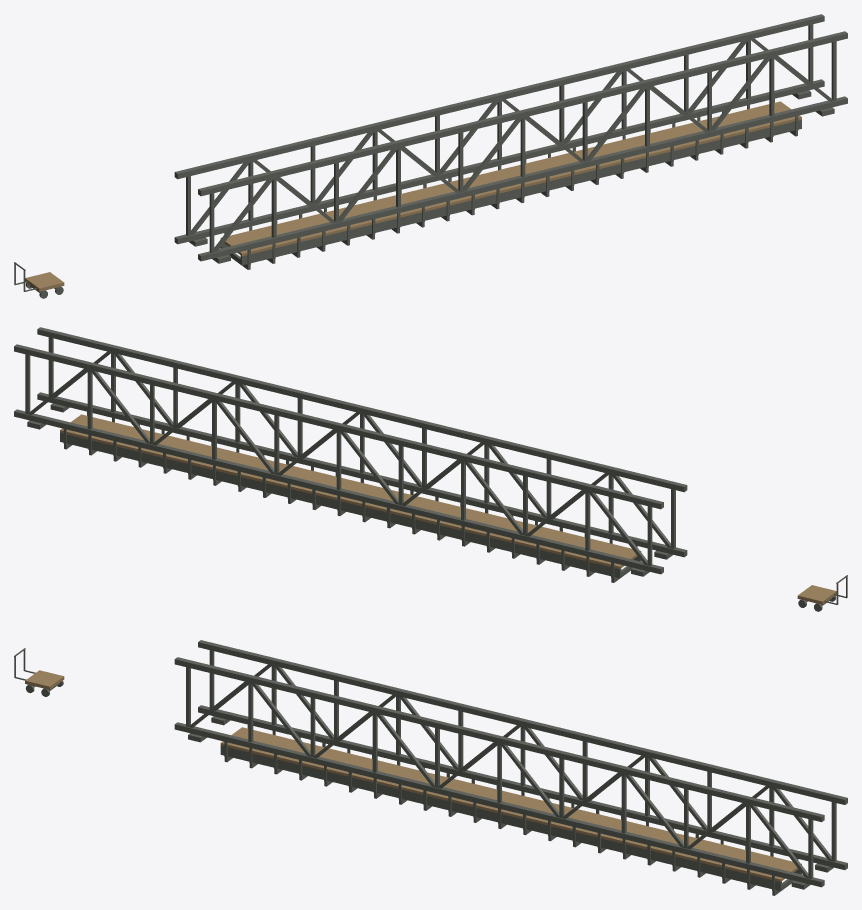
The model's file is second-floor-bridge.glb.
3 renders of one model, top to bottom at view 1: azimuth 30°, elevation 25°; view 2: azimuth 150°, elevation 25°; view 3: azimuth 330°, elevation 25°, orthographic.
Visible parts, largest first — view 1: bridge-iron.002, bridge-timber.002; view 2: bridge-iron.002, bridge-timber.002; view 3: bridge-iron.002, bridge-timber.002, cart-bed.002.
Part boxes in pixels (x1,y1,x2,y2): bridge-iron.002: (174,14,847,269); bridge-timber.002: (220,101,801,256); bridge-iron.002: (14,327,687,582); bridge-timber.002: (60,414,641,569); bridge-iron.002: (174,640,847,895); bridge-timber.002: (220,727,801,881); cart-bed.002: (25,670,64,689).
Size of the model in its own units: 26.21 by 2.82 by 1.7.
